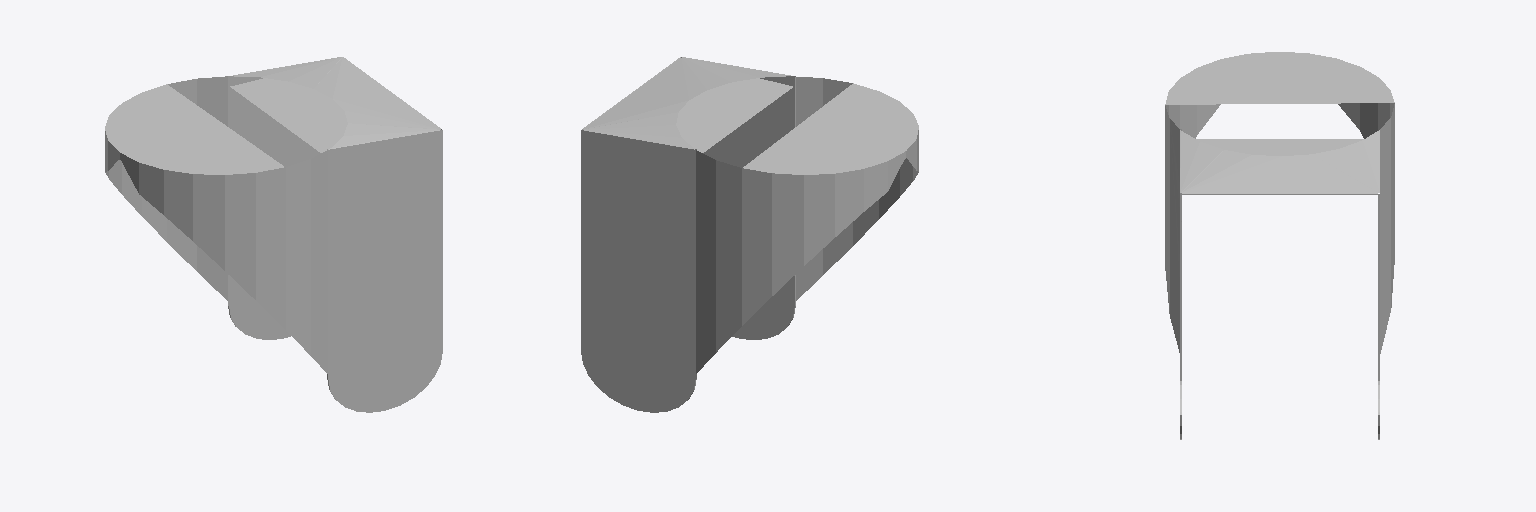
The model's file is original-37.obj.
3 views of the same model, side by side, from view 1: azimuth 30°, elevation 25°; view 2: azimuth 150°, elevation 25°; view 3: azimuth 270°, elevation 25° (orthographic).
Parts seen in each view (by area): view 1: Group20/mesh13/mesh13-geometry#mesh13-geometry; view 2: Group20/mesh13/mesh13-geometry#mesh13-geometry; view 3: Group20/mesh13/mesh13-geometry#mesh13-geometry.
Boxes of the visible parts, <box> form: Group20/mesh13/mesh13-geometry#mesh13-geometry: <box>105,57,442,412</box>; Group20/mesh13/mesh13-geometry#mesh13-geometry: <box>581,57,918,412</box>; Group20/mesh13/mesh13-geometry#mesh13-geometry: <box>1165,52,1394,439</box>.
Size of the model in its own units: 0.0716 by 0.0687 by 0.052.